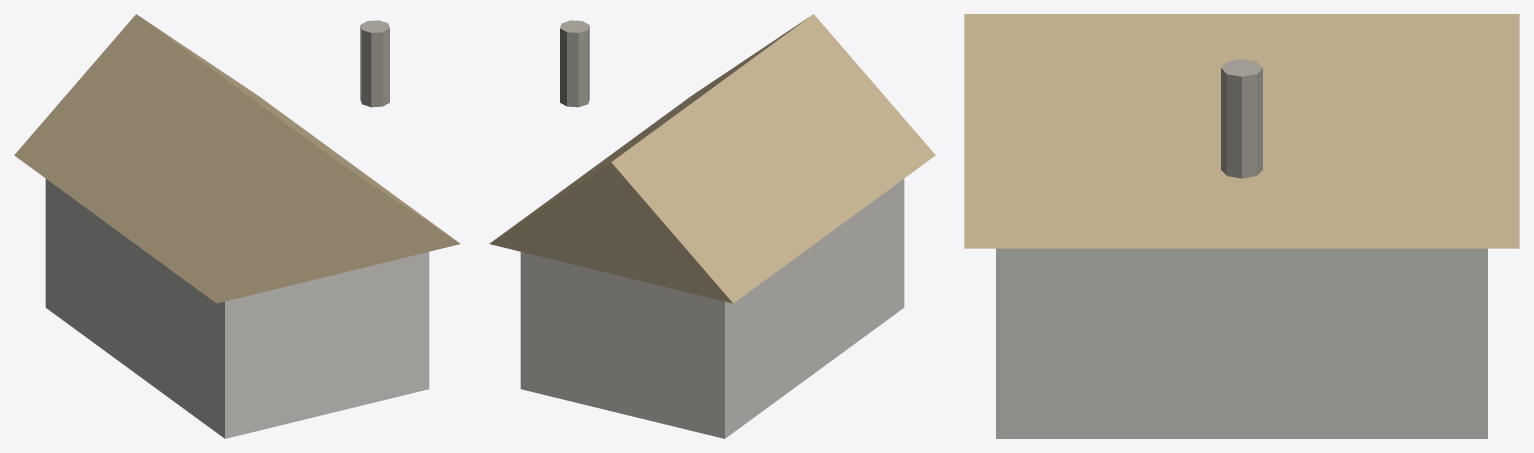
Rendered from CottageA.glb.
3 views of the same model, side by side, from view 1: azimuth 30°, elevation 25°; view 2: azimuth 150°, elevation 25°; view 3: azimuth 270°, elevation 25° (orthographic). The views are drawn at different scales.
Parts seen in each view (by area): view 1: Cottage roof, Cottage, Chimney.001; view 2: Cottage roof, Cottage, Chimney.001; view 3: Cottage roof, Cottage, Chimney.001.
Part boxes in pixels (bbox=[...]): Cottage roof: bbox=[14, 14, 460, 303]; Cottage: bbox=[45, 179, 429, 438]; Chimney.001: bbox=[360, 20, 389, 107]; Cottage roof: bbox=[489, 14, 935, 303]; Cottage: bbox=[520, 179, 904, 438]; Chimney.001: bbox=[560, 20, 589, 107]; Cottage roof: bbox=[964, 14, 1519, 248]; Cottage: bbox=[996, 248, 1487, 438]; Chimney.001: bbox=[1221, 59, 1262, 178].
Size of the model in its own units: 6.15 by 6.2 by 7.9.
